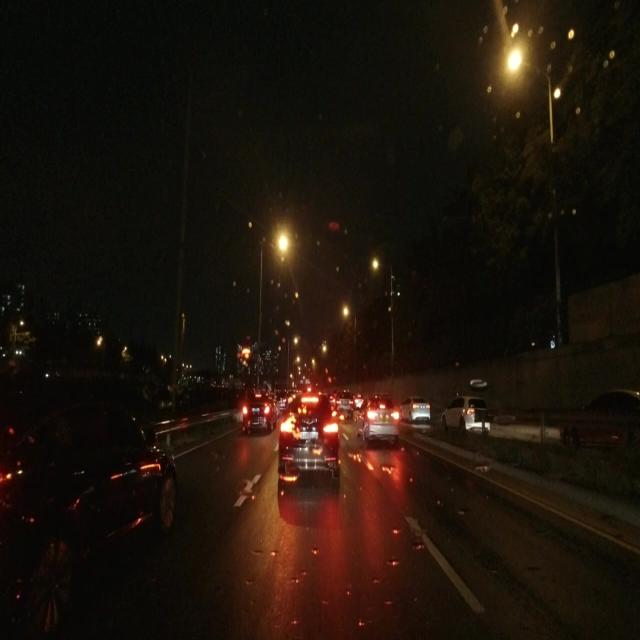Car: (10, 367, 175, 629), (277, 390, 338, 485), (358, 392, 398, 446), (438, 396, 486, 431), (236, 391, 271, 433), (400, 390, 429, 425)
